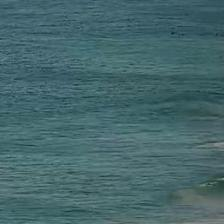surfer: (170, 32, 176, 36), (180, 33, 185, 37), (215, 33, 219, 38)
